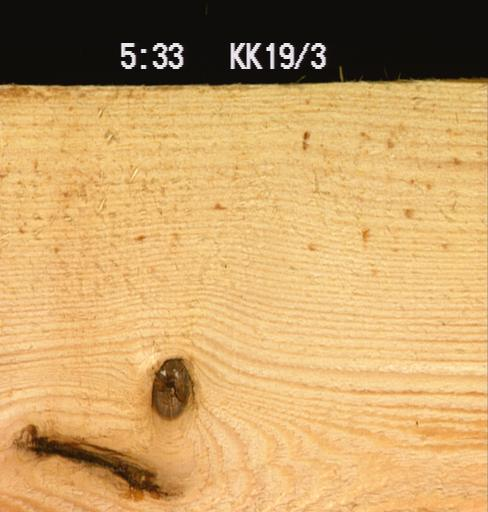dry_knot: (148, 356, 193, 421)
